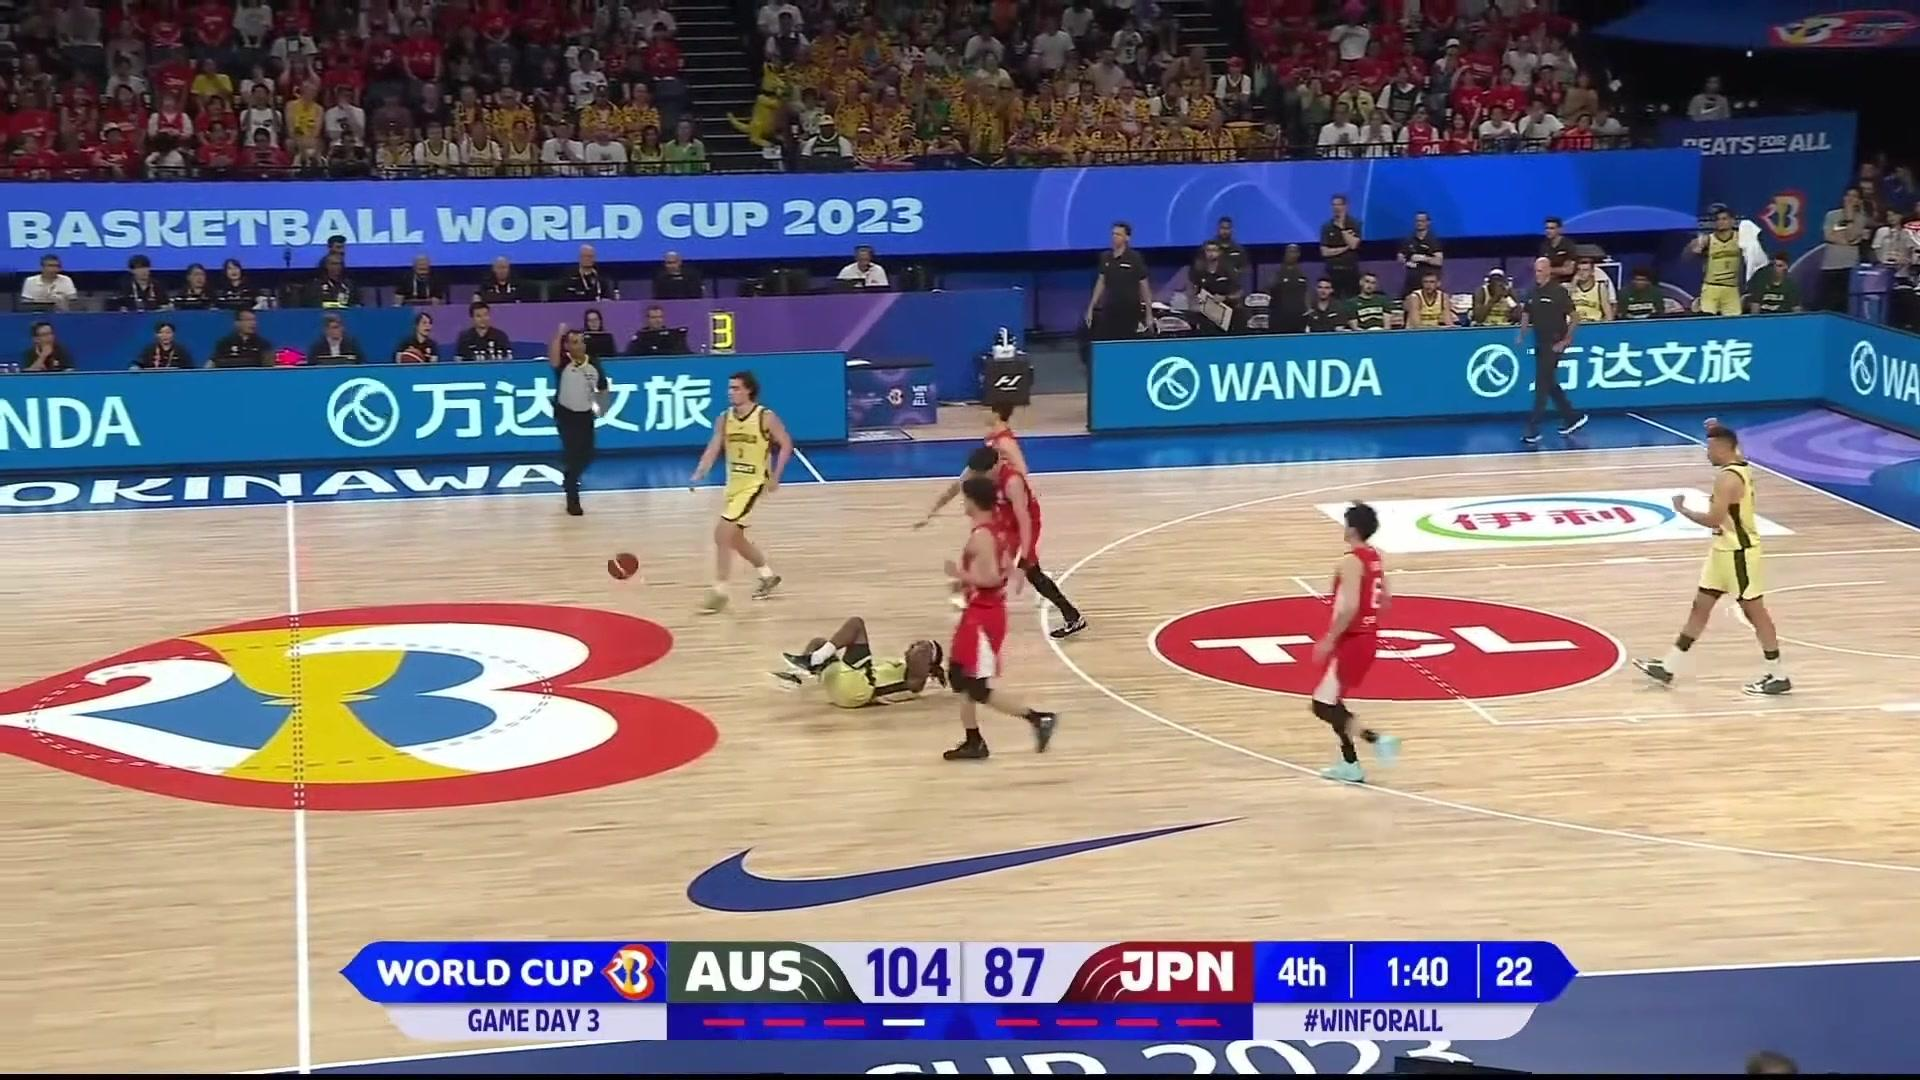foul: (752, 579, 1035, 786)
